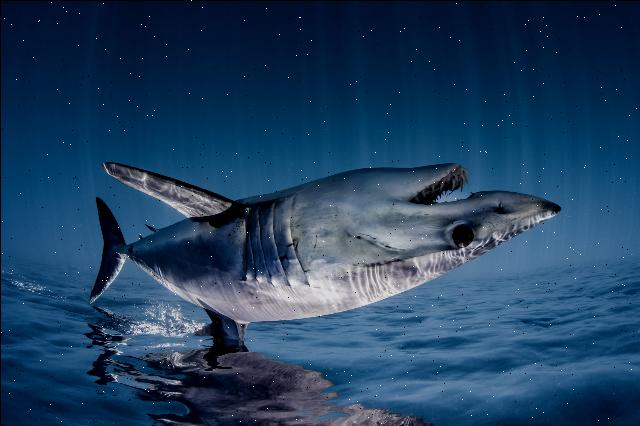Mulut: (392, 139, 488, 221)
Sirip Dada: (91, 142, 252, 236)
Sirip Ekor: (64, 189, 134, 311)
